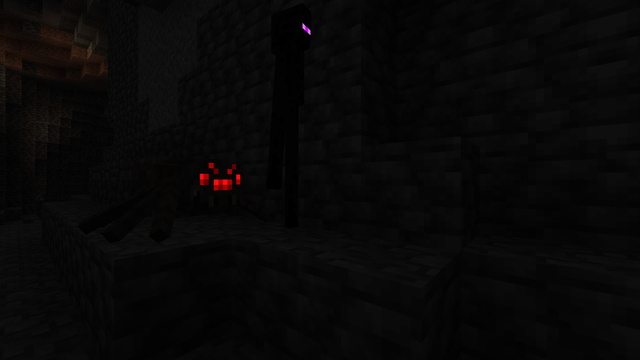araignees: (110, 150, 250, 245)
endermens: (266, 1, 313, 230)
